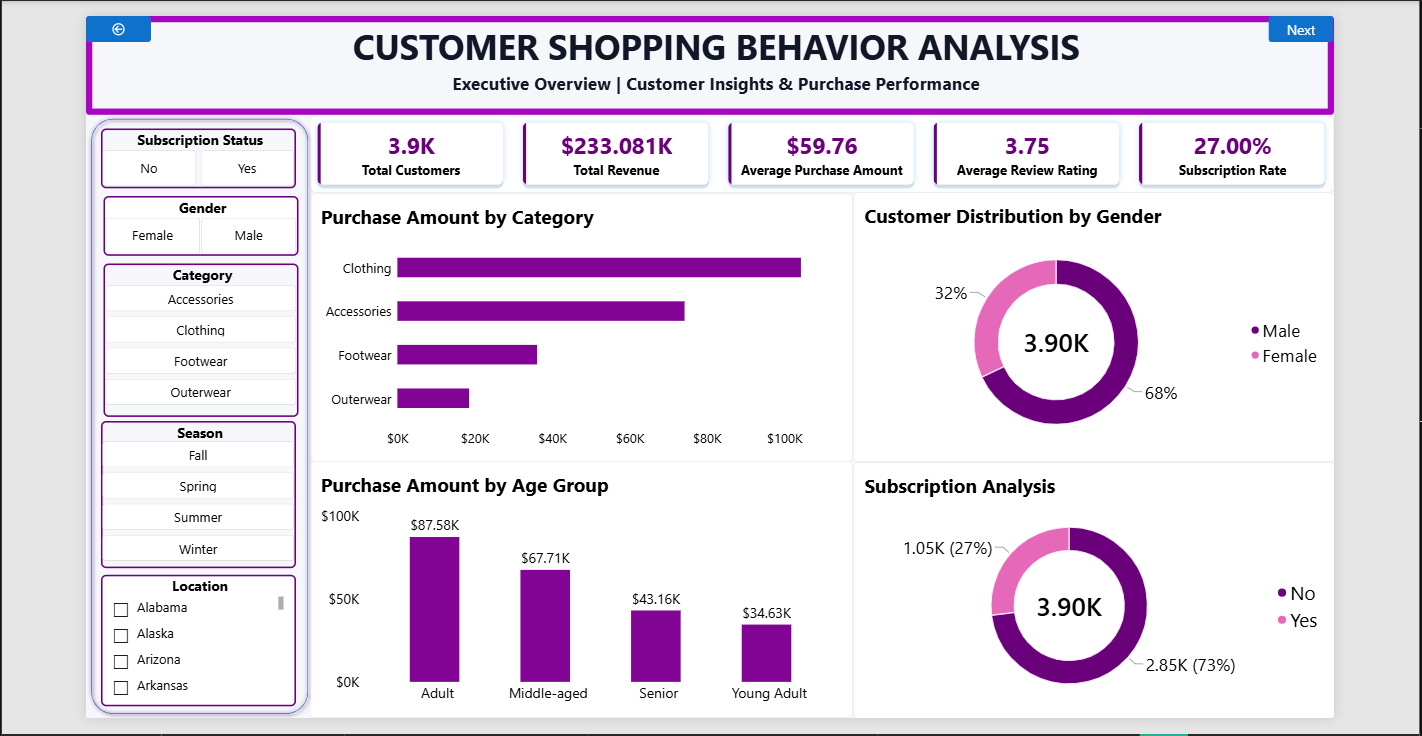

The dashboard page shown, as its layout file describes it:
{"tool":"powerbi","page":{"name":"Executive Overview","canvas":[1920,1080],"ordinal":0},"visuals":[{"type":"cardVisual","fields":{"Data":["customer_data.Total Customers","customer_data.Total Revenue","customer_data.Average Purchase Amount","customer_data.Average Review Rating","customer_data.Subscription Rate"]},"box":[344,152,1576,120],"z":0},{"type":"textbox","title":"CUSTOMER SHOPPING BEHAVIOR ANALYSIS","box":[0,0,1920,152],"z":1000},{"type":"clusteredBarChart","title":"Purchase Amount by Category","fields":{"Category":["customer_data.category"],"Y":["customer_data.Total Revenue"]},"box":[345,272.5,835,412.5],"z":2000},{"type":"donutChart","title":"Customer Distribution by Gender","fields":{"Category":["customer_data.gender"],"Y":["customer_data.Total Customers"]},"box":[1180,272,740,414],"z":3000},{"type":"clusteredColumnChart","title":"Purchase Amount by Age Group","fields":{"Category":["customer_data.age_group"],"Y":["customer_data.Total Revenue"]},"box":[345,685,835,395],"z":4000},{"type":"donutChart","title":"Subscription Analysis","fields":{"Category":["customer_data.subscription_status"],"Y":["customer_data.Total Customers"]},"box":[1180,686,740,394],"z":5000},{"type":"shape","box":[2,152,346,928],"z":6000},{"type":"advancedSlicerVisual","title":"Gender","fields":{"Values":["customer_data.gender"]},"box":[26,277,300,92],"z":7000},{"type":"advancedSlicerVisual","title":"Category","fields":{"Values":["customer_data.category"]},"box":[26,380,300,236],"z":8000},{"type":"advancedSlicerVisual","title":"Season","fields":{"Values":["customer_data.season"]},"box":[24,624,300,226],"z":9000},{"type":"listSlicer","title":"Location","fields":{"Values":["customer_data.location"]},"box":[24,860,300,202],"z":10000},{"type":"advancedSlicerVisual","title":"Subscription Status","fields":{"Values":["customer_data.subscription_status"]},"box":[24,174,300,92],"z":11000},{"type":"actionButton","box":[0,0,100,40],"z":11002},{"type":"actionButton","box":[1820,0,100,40],"z":11003}]}

Visuals, with their boxes on the page's 1920x1080 design canvas (x1, y1, x2, y2). These are canvas units, not pixel positions in the 1422x736 screenshot, which may show the page scaled, cropped or inside an application window:
cardVisual - customer_data.Total Customers x customer_data.Total Revenue: 344/152/1920/272
"CUSTOMER SHOPPING BEHAVIOR ANALYSIS" textbox: 0/0/1920/152
"Purchase Amount by Category" clusteredBarChart: 345/272/1180/685
"Customer Distribution by Gender" donutChart: 1180/272/1920/686
"Purchase Amount by Age Group" clusteredColumnChart: 345/685/1180/1080
"Subscription Analysis" donutChart: 1180/686/1920/1080
shape: 2/152/348/1080
"Gender" advancedSlicerVisual: 26/277/326/369
"Category" advancedSlicerVisual: 26/380/326/616
"Season" advancedSlicerVisual: 24/624/324/850
"Location" listSlicer: 24/860/324/1062
"Subscription Status" advancedSlicerVisual: 24/174/324/266
actionButton: 0/0/100/40
actionButton: 1820/0/1920/40
